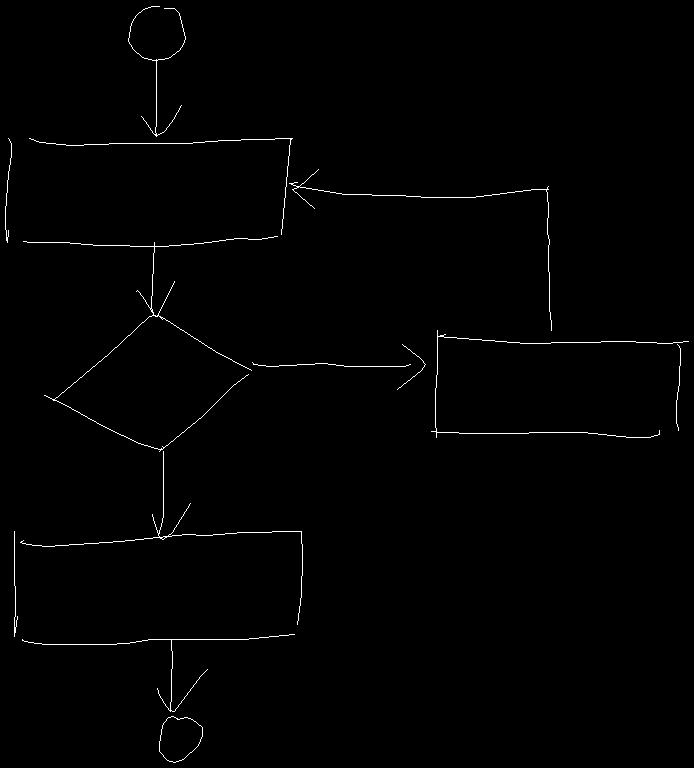arrow: (289, 169, 551, 330), (252, 344, 425, 389), (157, 639, 207, 711), (152, 451, 190, 539), (141, 59, 181, 136), (136, 242, 174, 316)
connection: (128, 6, 185, 60), (159, 716, 202, 762)
decision: (44, 315, 251, 451)
process: (14, 531, 302, 644), (5, 138, 292, 246), (431, 330, 688, 437)
